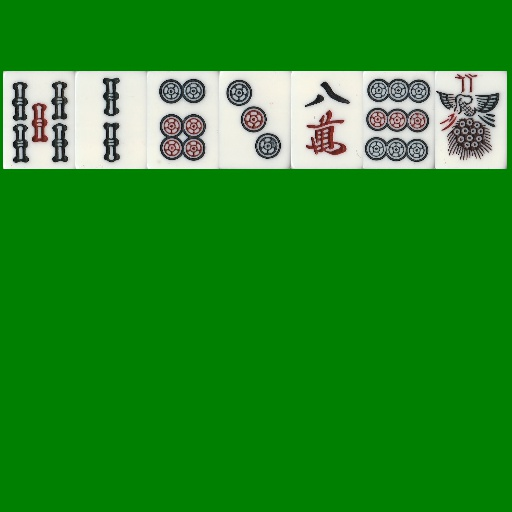1s: (435, 71, 507, 169)
2s: (75, 71, 147, 169)
3p: (219, 71, 291, 169)
5s: (3, 71, 75, 169)
6p: (147, 71, 219, 169)
8m: (291, 71, 363, 169)
9p: (363, 71, 435, 169)
